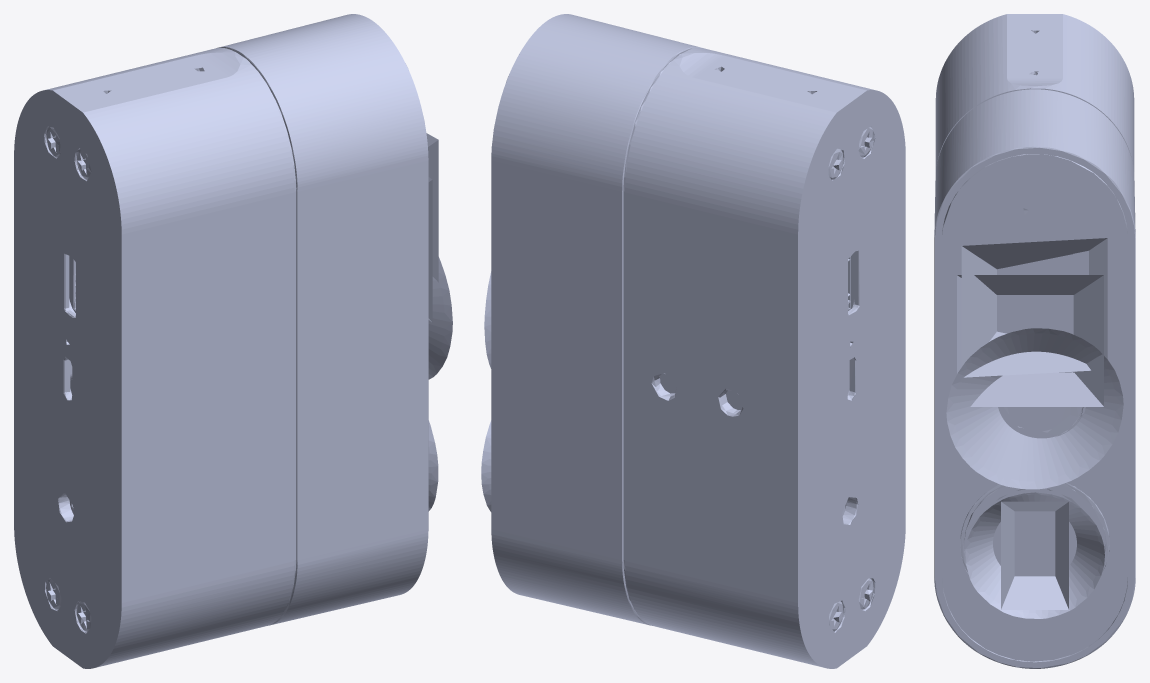
File: femto_bolt.obj
3 renders of one model, left to right at view 1: azimuth 30°, elevation 25°; view 2: azimuth 150°, elevation 25°; view 3: azimuth 270°, elevation 25°, orthographic. The views are drawn at different scales.
Bounding box in the file's own units: 0.0718 × 0.1153 × 0.0403.
